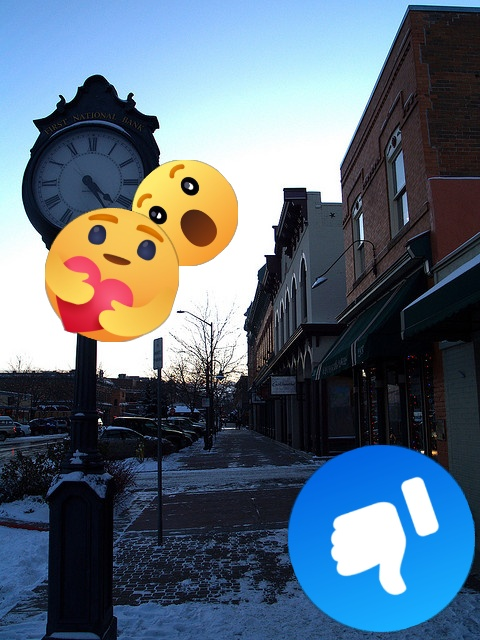care: (45, 208, 179, 342)
like: (288, 445, 475, 632)
wow: (132, 160, 238, 266)
